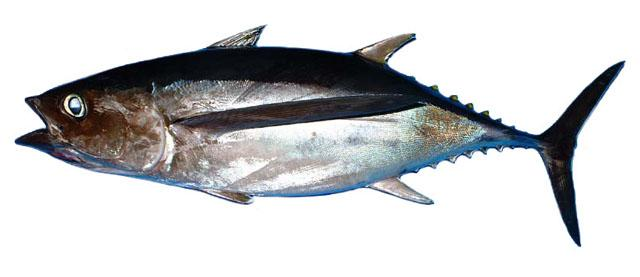Mulut: (4, 80, 66, 170)
Sirip Anal: (352, 166, 444, 217)
Sirip Dada: (146, 86, 432, 149)
Sirip Ekor: (515, 49, 635, 253)
Sirip Perut: (184, 175, 268, 219)
Sirip Punggung: (192, 17, 434, 79)
